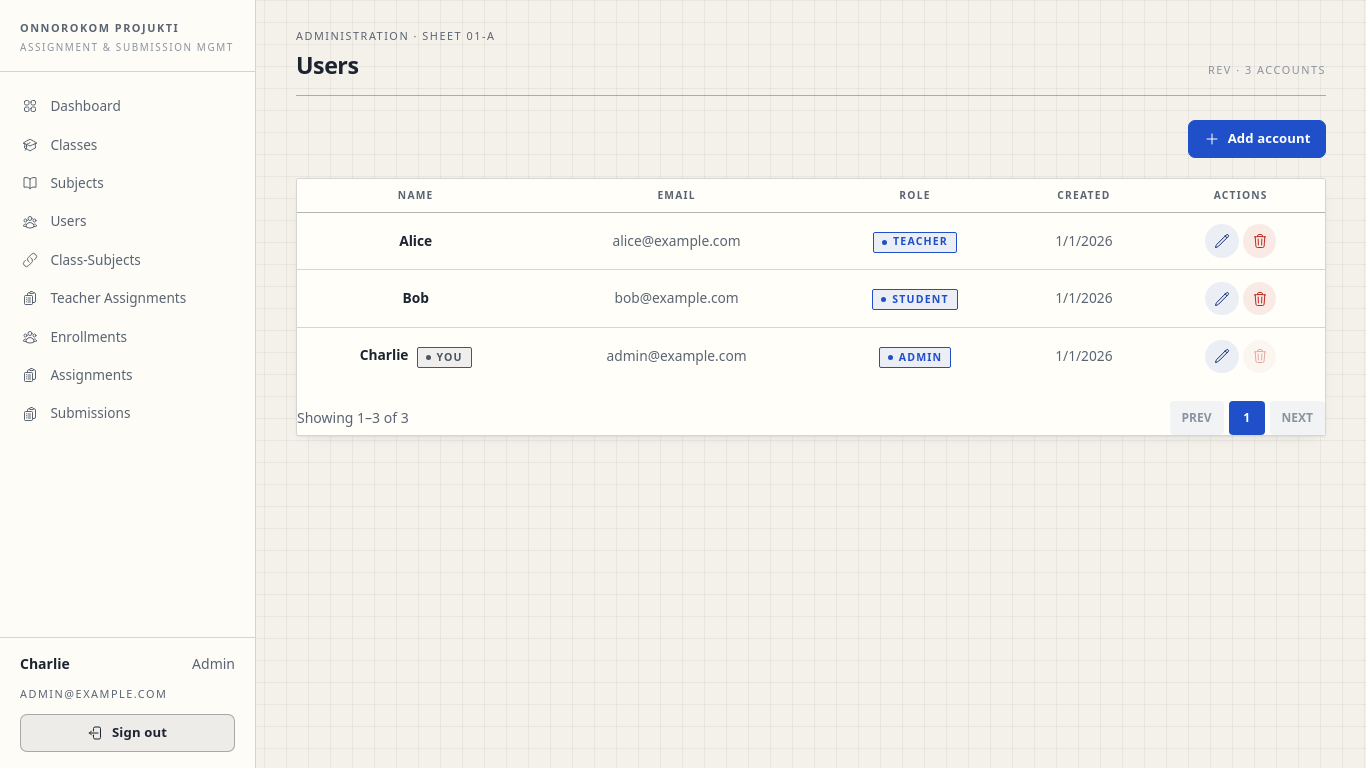
Test: AdminUsersPage › disables role control for your own account
Click the button named "Edit Charlie" at point(1222, 356), box [1205,340,1239,373]
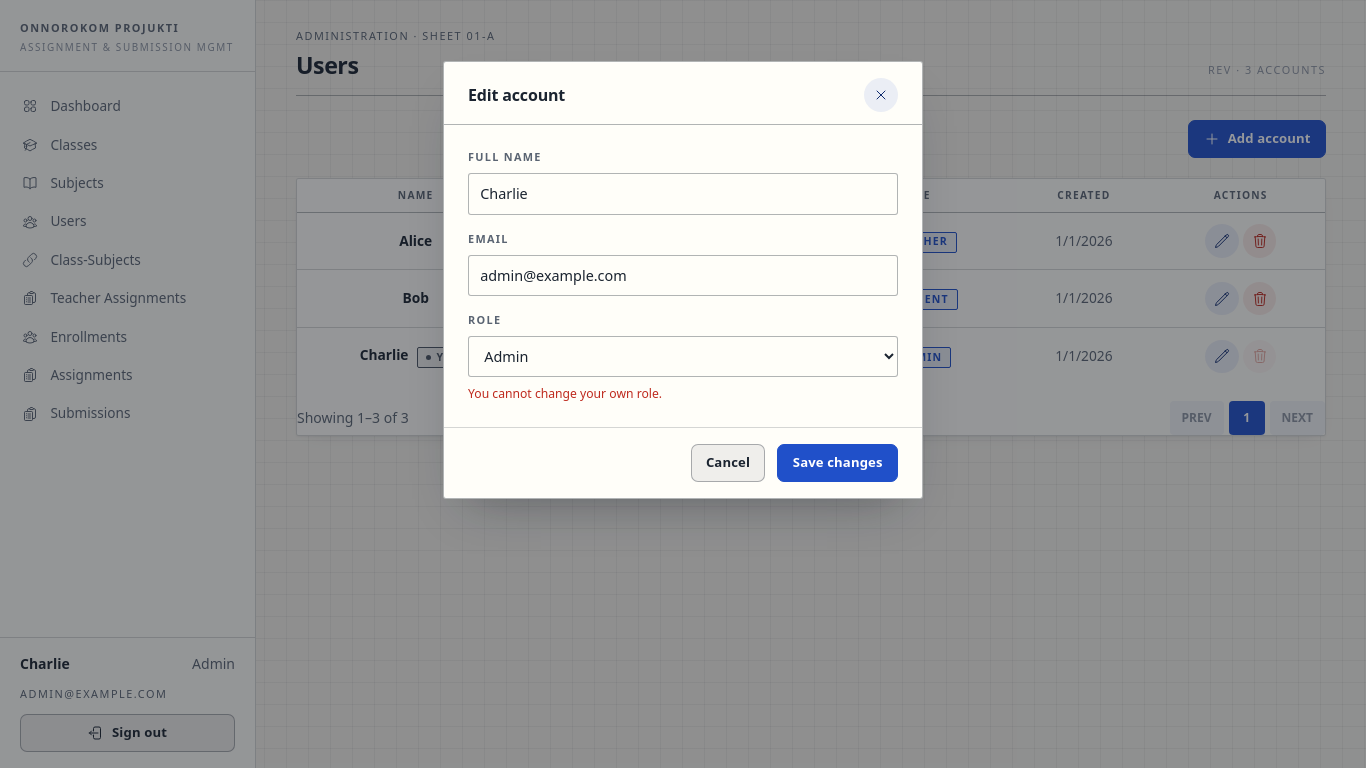
Check: the dropdown labelled "Role" is disabled, box [468,336,898,377]
